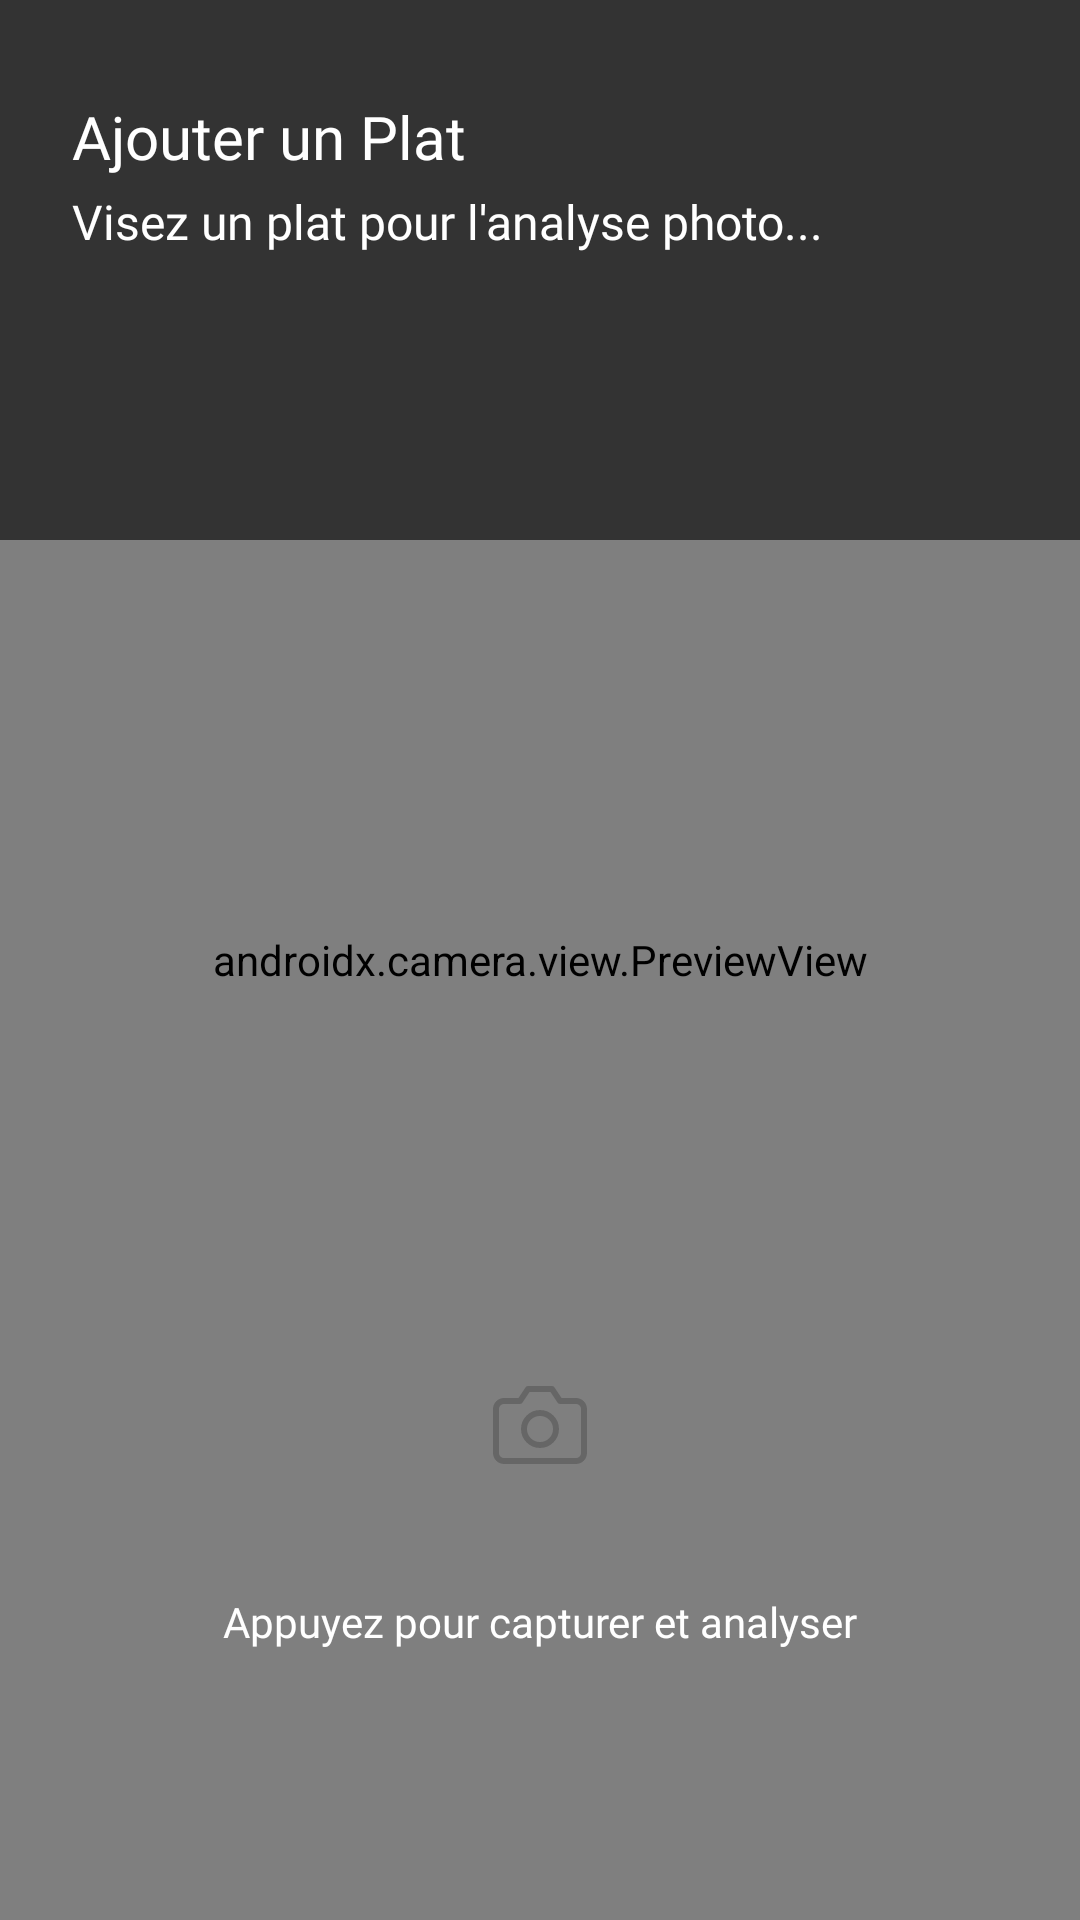

Named icons in this screenshot (1080 x 1920) and their centers, (x=x, y=y):
camera lite: (x=540, y=1425)
